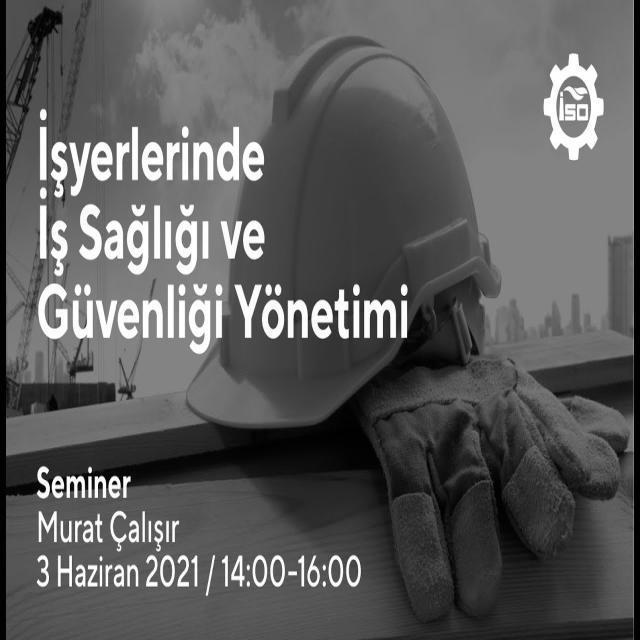safety_helmet: (183, 36, 502, 435)
